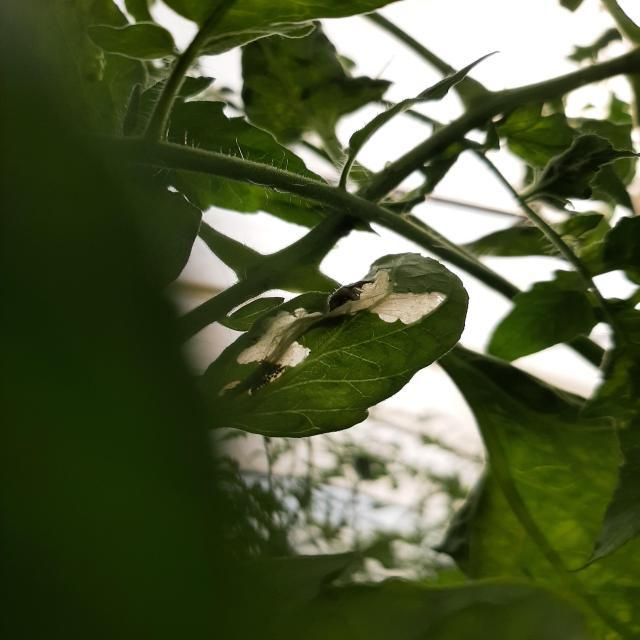Tuta absoluta: (235, 291, 333, 394), (330, 260, 450, 330), (372, 292, 446, 325)
